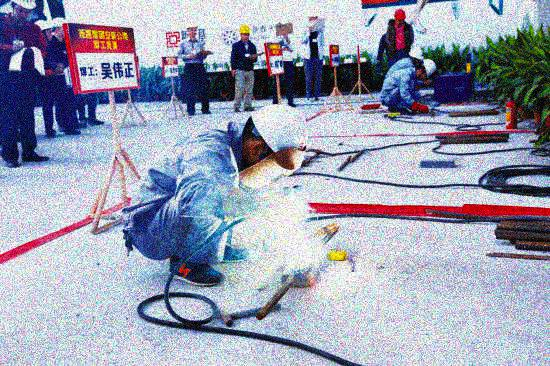helmet: (244, 104, 309, 176), (9, 1, 35, 22), (417, 58, 437, 80), (34, 19, 52, 40), (53, 17, 68, 39), (392, 8, 408, 26), (407, 46, 423, 63), (238, 23, 251, 43), (186, 20, 199, 38)
